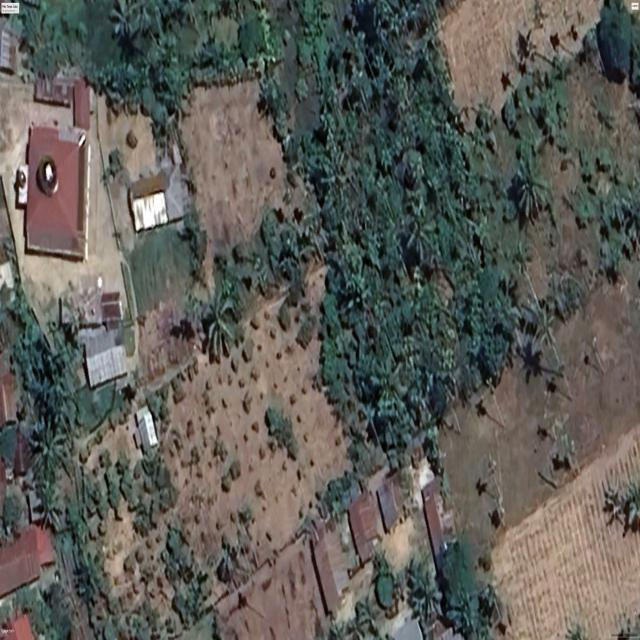Home: (0, 524, 56, 601), (421, 478, 452, 572), (348, 491, 382, 565), (376, 472, 402, 533), (0, 362, 18, 429), (12, 614, 34, 640)
mosque: (24, 126, 91, 261)
